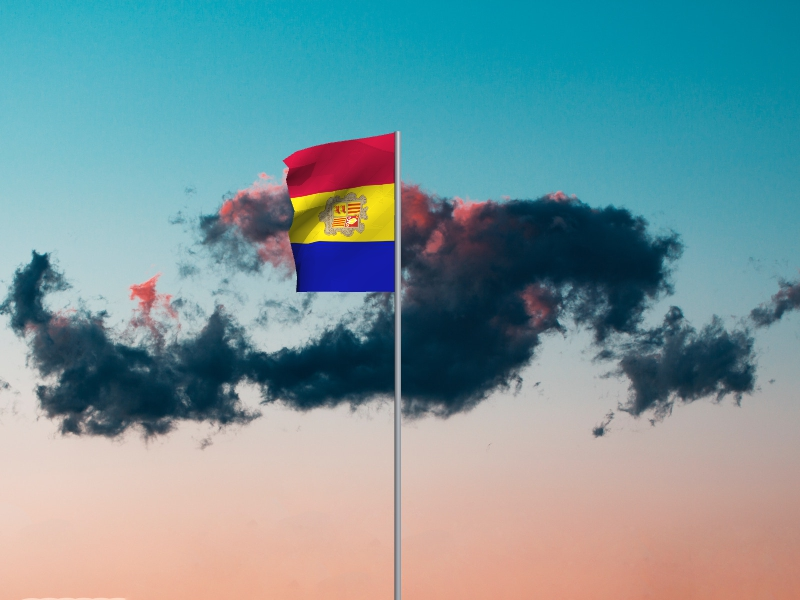ad: (281, 128, 397, 294)
